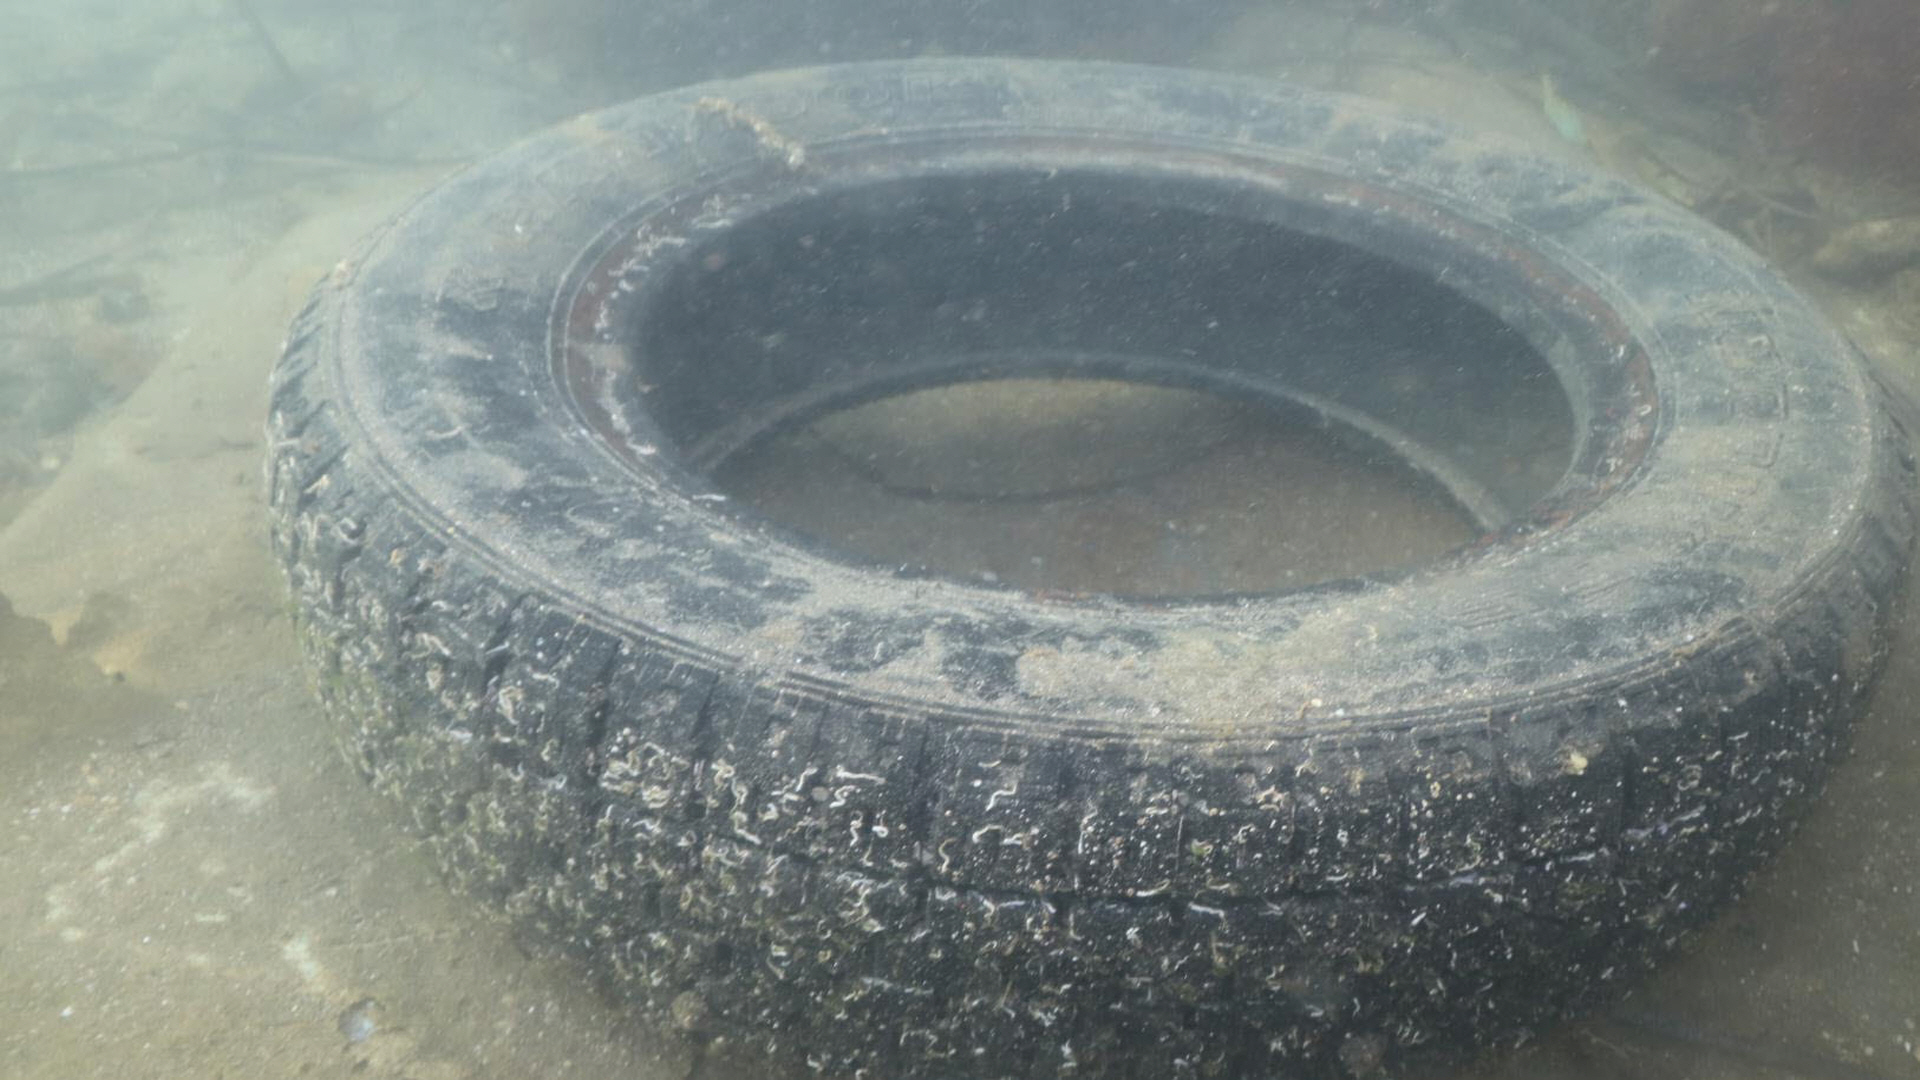tire: (262, 54, 1920, 1080)
